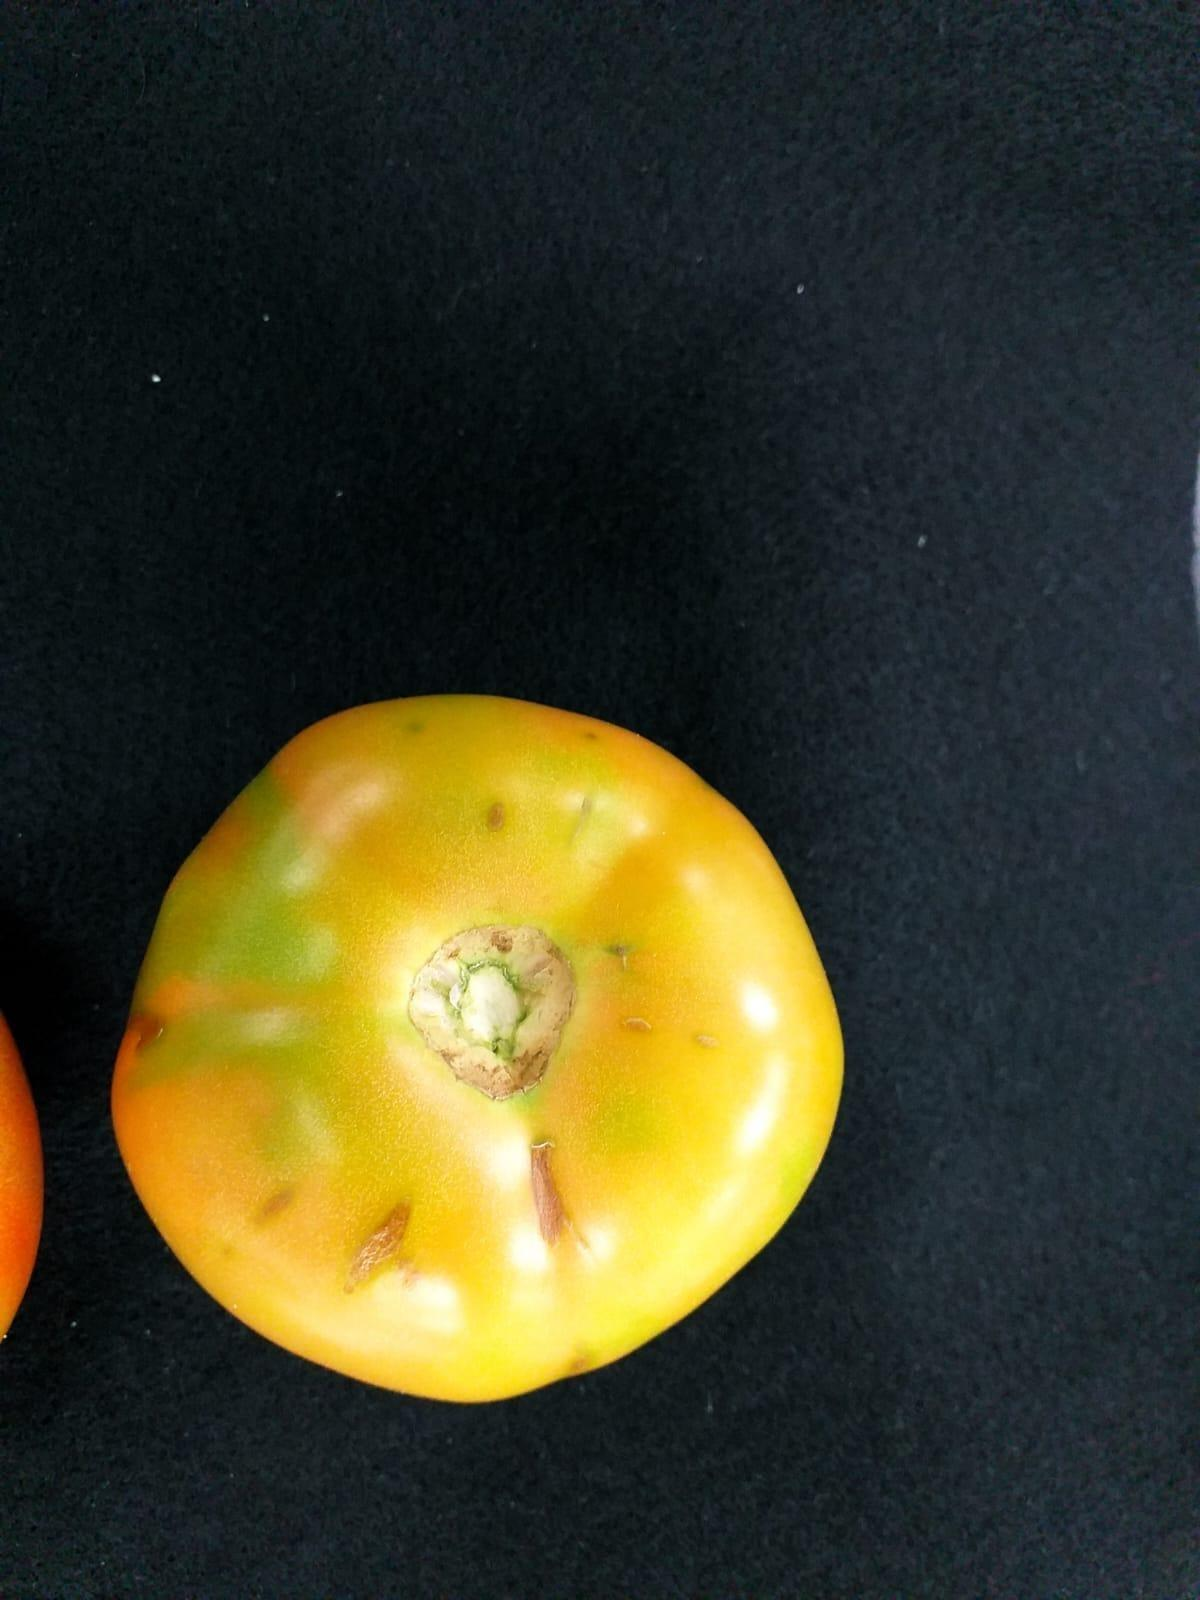Rugose tomato: (109, 692, 844, 1406)
